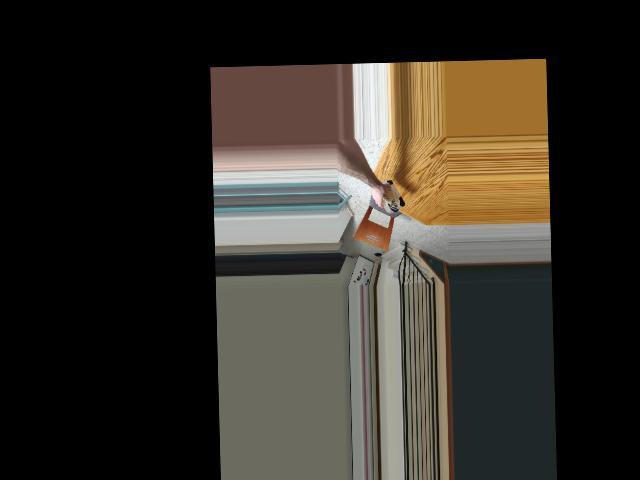cheese: (371, 177, 405, 213)
